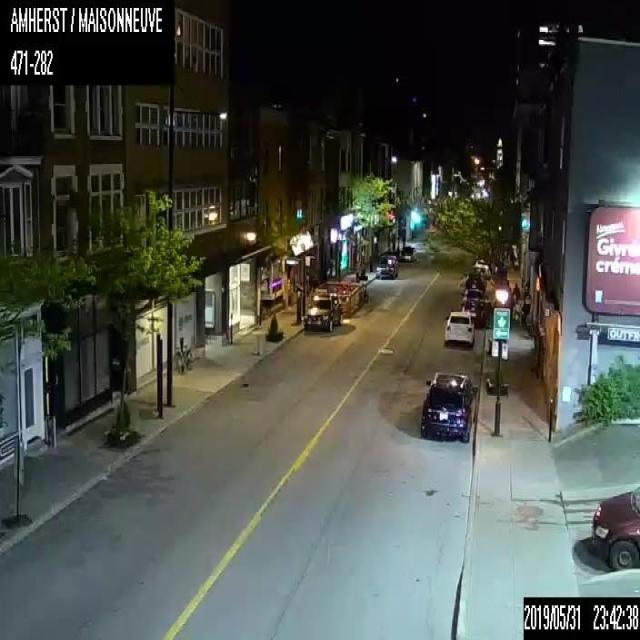pedestrian: (512, 281, 520, 308)
vehicle: (588, 484, 639, 572), (420, 370, 477, 440), (303, 289, 342, 331), (444, 309, 476, 345), (461, 288, 484, 315), (374, 254, 398, 278), (464, 271, 483, 290), (399, 246, 414, 260)
